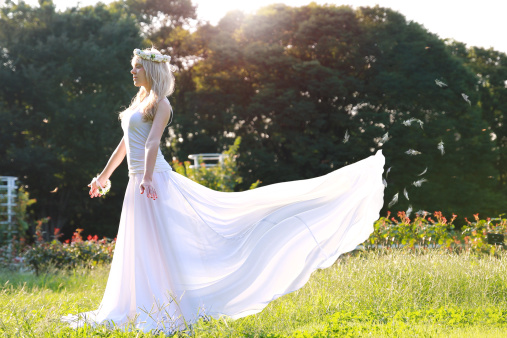em pe: (83, 41, 202, 274)
